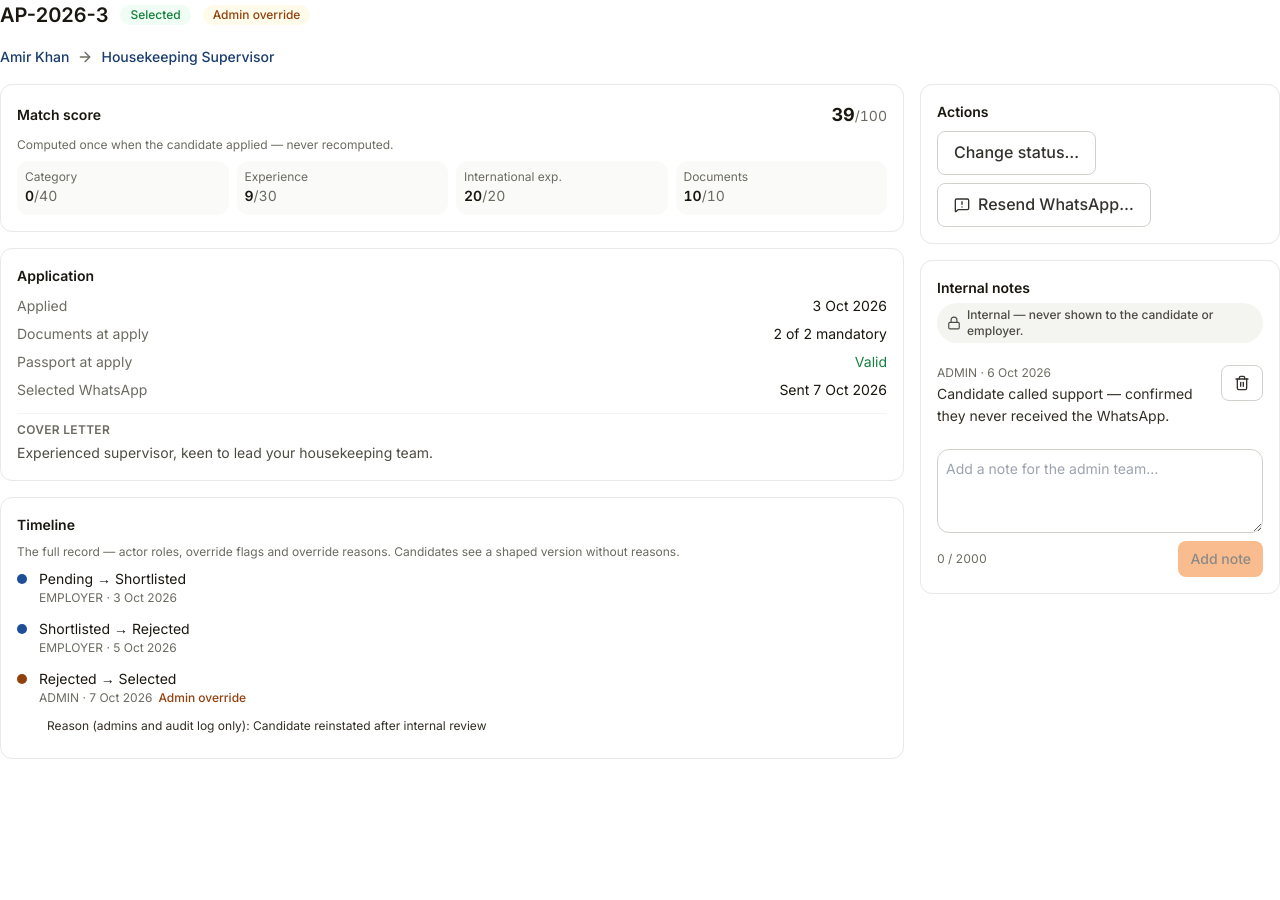
Scenario: ResendWhatsAppDialog › mandatory reason + the consequence + the original-date truth; success states the queueing
Check: the heading "AP-2026-3" is shown, box [0,0,108,30]
Click the button "Resend WhatsApp…" at [1044, 205], box [937,183,1151,227]
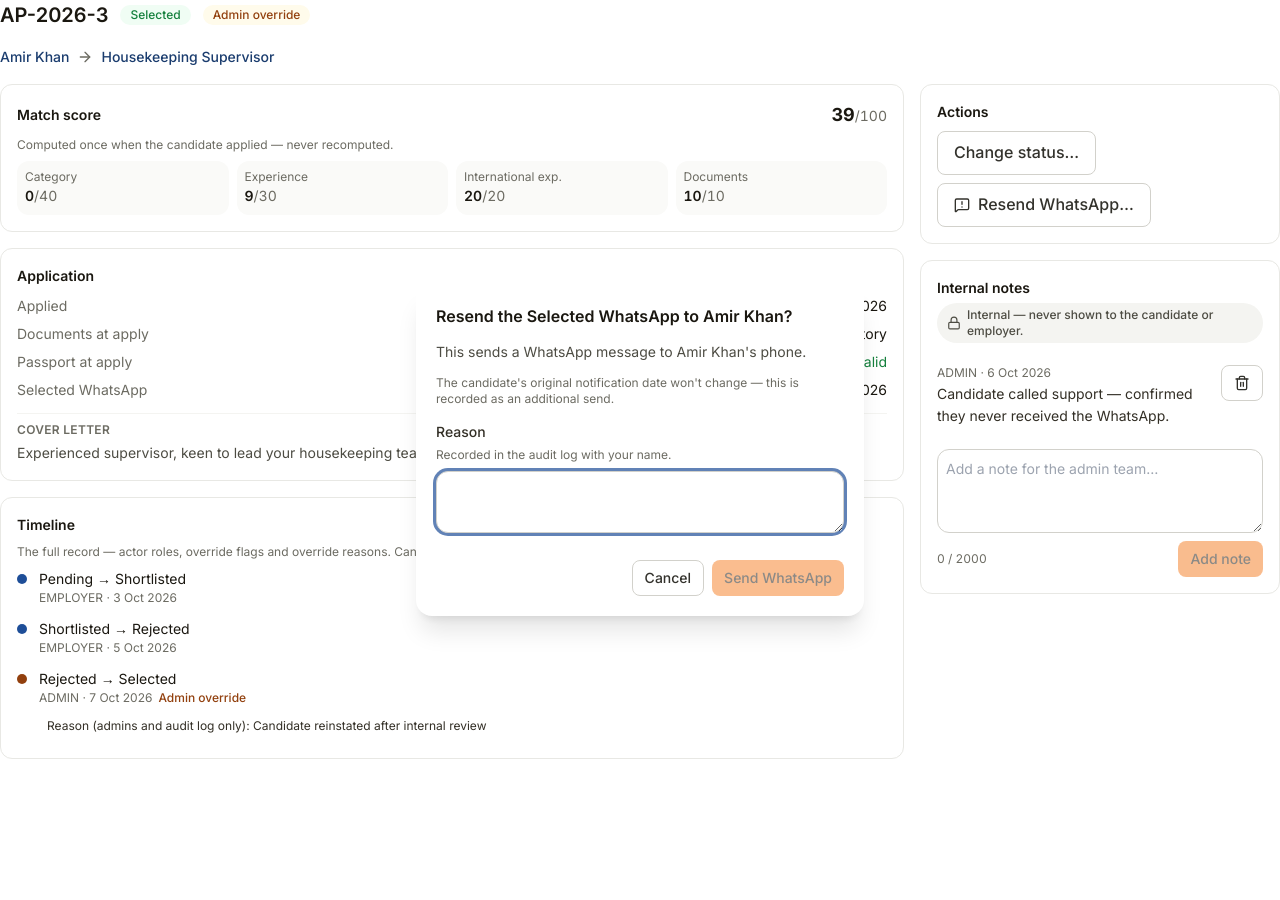
Check: the text "This sends a WhatsApp message to Amir Khan's phone." is shown, box [436,341,844,363]
Check: the text "original notification date won't change" is shown, box [436,375,799,406]
Check: the button "Send WhatsApp" is disabled, box [712,560,844,596]
Type "Candidate reported non-delivery." into the text box labelled "Reason" at [640, 502], box [436,471,844,533]
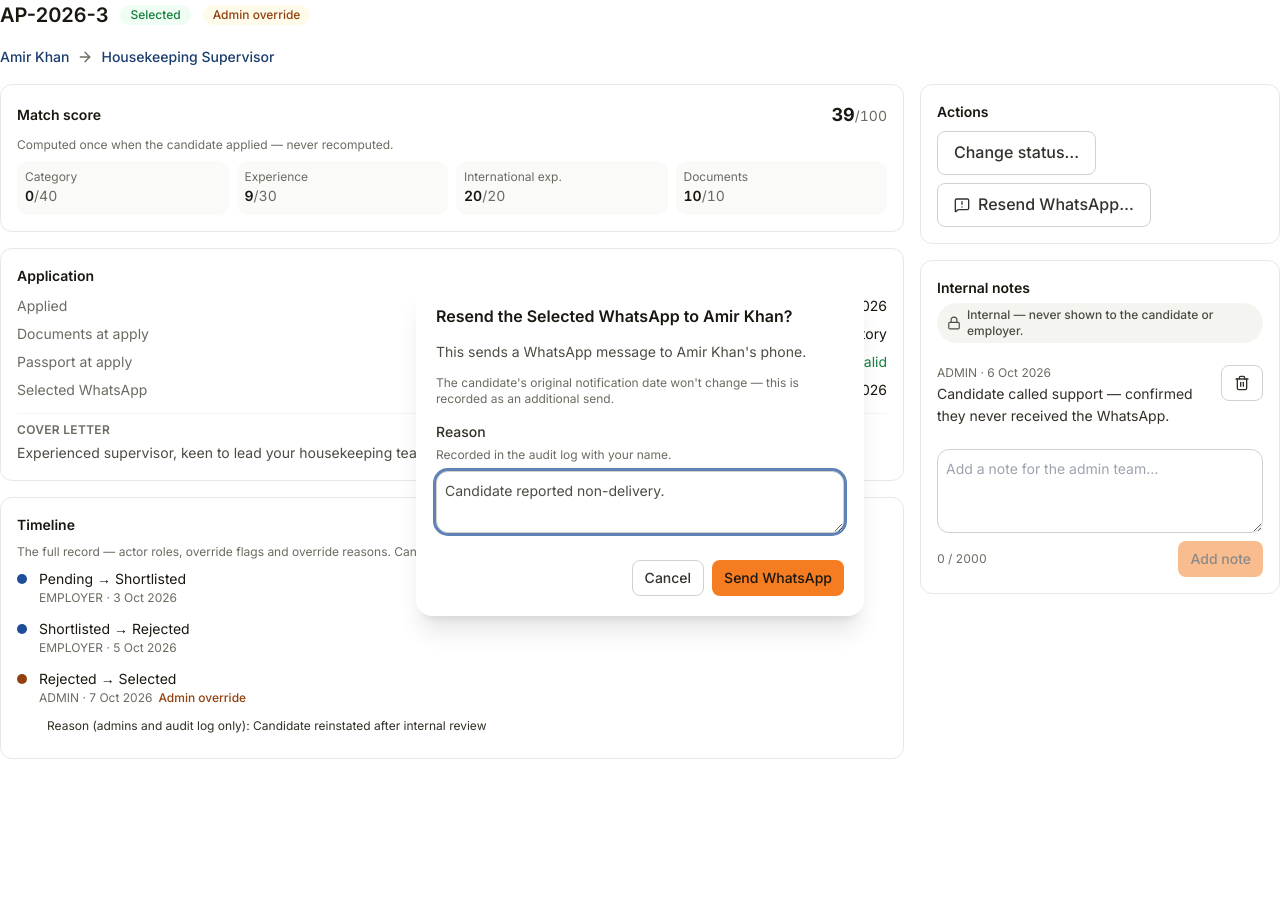
Click the button "Send WhatsApp" at [778, 578], box [712,560,844,596]
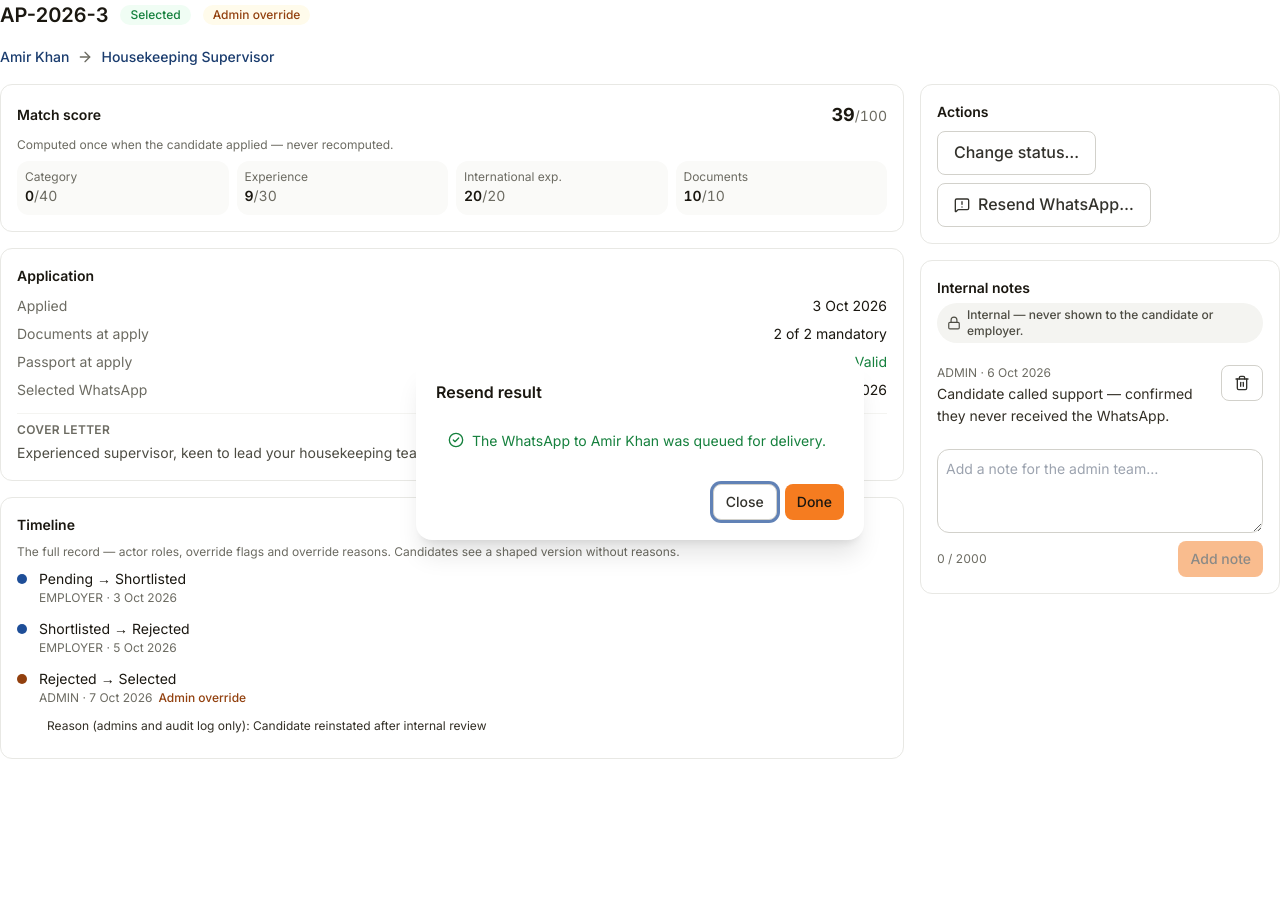
Check: the text "The WhatsApp to Amir Khan was queued for delivery." is shown, box [472,430,826,452]
